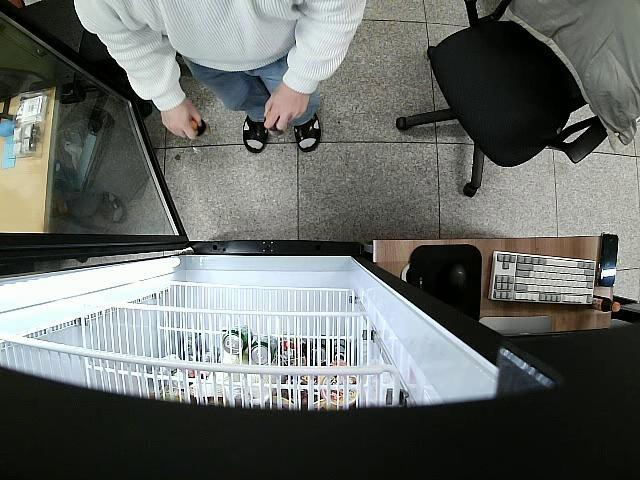17_vita500: (262, 110, 282, 138), (185, 118, 207, 138)
